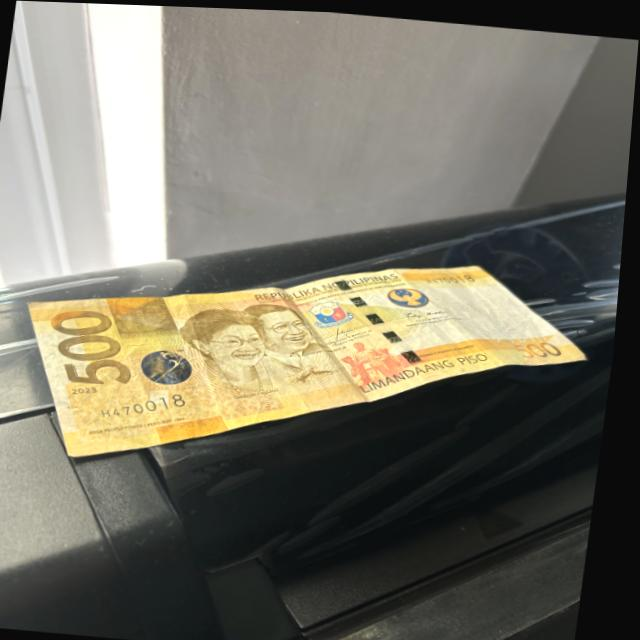concealed_value: (109, 295, 188, 337)
optically_variable_device: (143, 345, 207, 388)
